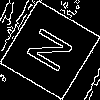N: (25, 25, 83, 80)
